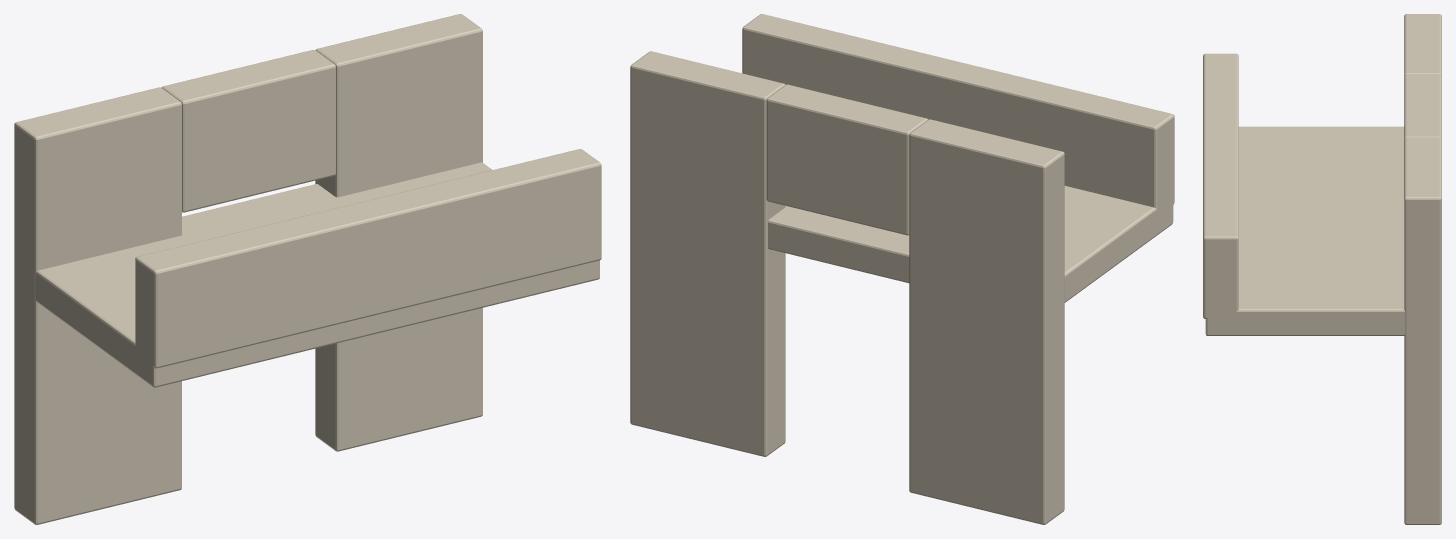
The model's file is balcony_combat_LOD1.glb.
3 renders of one model, left to right at view 1: azimuth 30°, elevation 25°; view 2: azimuth 150°, elevation 25°; view 3: azimuth 270°, elevation 25°, orthographic. The views are drawn at different scales.
Parts seen in each view (by area): view 1: LOD_FrontGuard, LOD_BackLeft, LOD_BackRight, LOD_Deck, LOD_BackLintel; view 2: LOD_BackLeft, LOD_BackRight, LOD_FrontGuard, LOD_BackLintel, LOD_Deck; view 3: LOD_Deck, LOD_BackRight, LOD_FrontGuard, LOD_BackLintel, LOD_BackLeft.
Part boxes in pixels (x1=…): LOD_FrontGuard: x1=135, y1=149, x2=601, y2=368; LOD_BackLeft: x1=14, y1=87, x2=181, y2=524; LOD_BackRight: x1=315, y1=14, x2=482, y2=451; LOD_Deck: x1=35, y1=162, x2=599, y2=387; LOD_BackLintel: x1=161, y1=50, x2=335, y2=212; LOD_BackLeft: x1=909, y1=119, x2=1064, y2=524; LOD_BackRight: x1=630, y1=51, x2=785, y2=456; LOD_FrontGuard: x1=742, y1=14, x2=1174, y2=215; LOD_BackLintel: x1=766, y1=84, x2=928, y2=235; LOD_Deck: x1=768, y1=186, x2=1173, y2=302; LOD_Deck: x1=1205, y1=126, x2=1405, y2=335; LOD_BackRight: x1=1404, y1=138, x2=1441, y2=524; LOD_FrontGuard: x1=1203, y1=53, x2=1238, y2=318; LOD_BackLintel: x1=1404, y1=74, x2=1441, y2=139; LOD_BackLeft: x1=1404, y1=14, x2=1441, y2=75.
Bounding box in the file's own units: 4.41 × 3.65 × 2.41.
